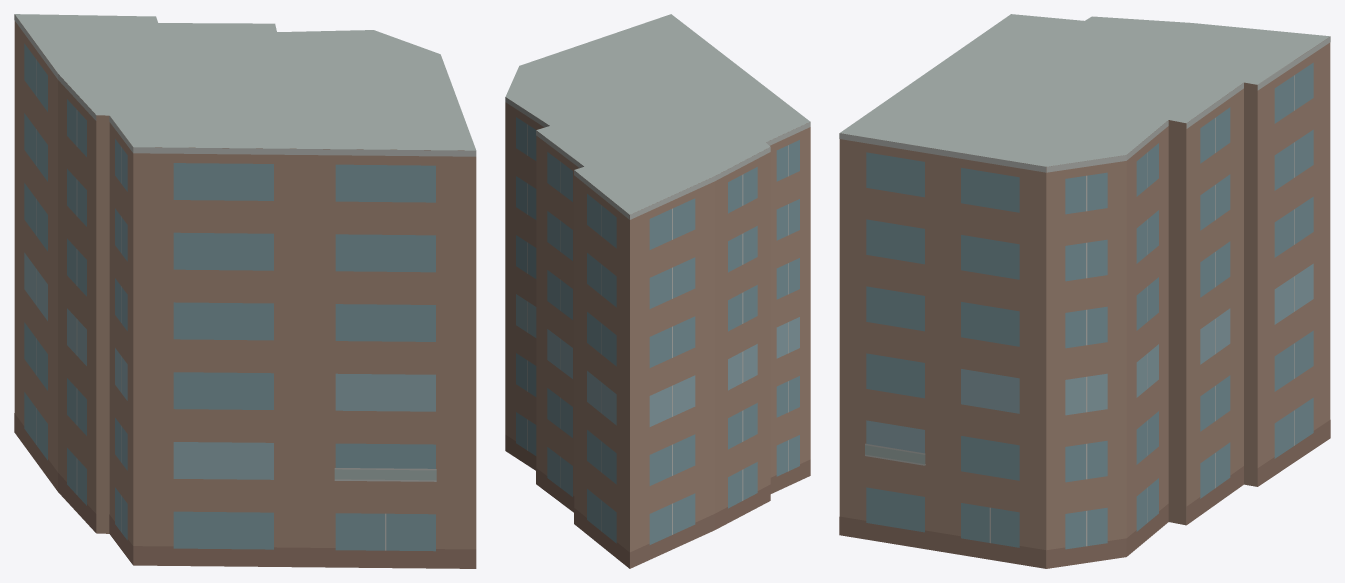
Rendered from survey-upis-32643922.glb.
The picture shows the model from 3 angles, left to right: view 1: azimuth 30°, elevation 25°; view 2: azimuth 150°, elevation 25°; view 3: azimuth 270°, elevation 25°; orthographic projection. The views are drawn at different scales.
Parts seen in each view (by area): view 1: survey-upis-32643922.tmp; view 2: survey-upis-32643922.tmp; view 3: survey-upis-32643922.tmp.
Part boxes in pixels (left/top/right/bottom): survey-upis-32643922.tmp: left=14, top=14, right=476, bottom=568; survey-upis-32643922.tmp: left=505, top=14, right=810, bottom=568; survey-upis-32643922.tmp: left=839, top=14, right=1330, bottom=568.
Bounding box in the file's own units: 13.54 × 16.6 × 18.38.
